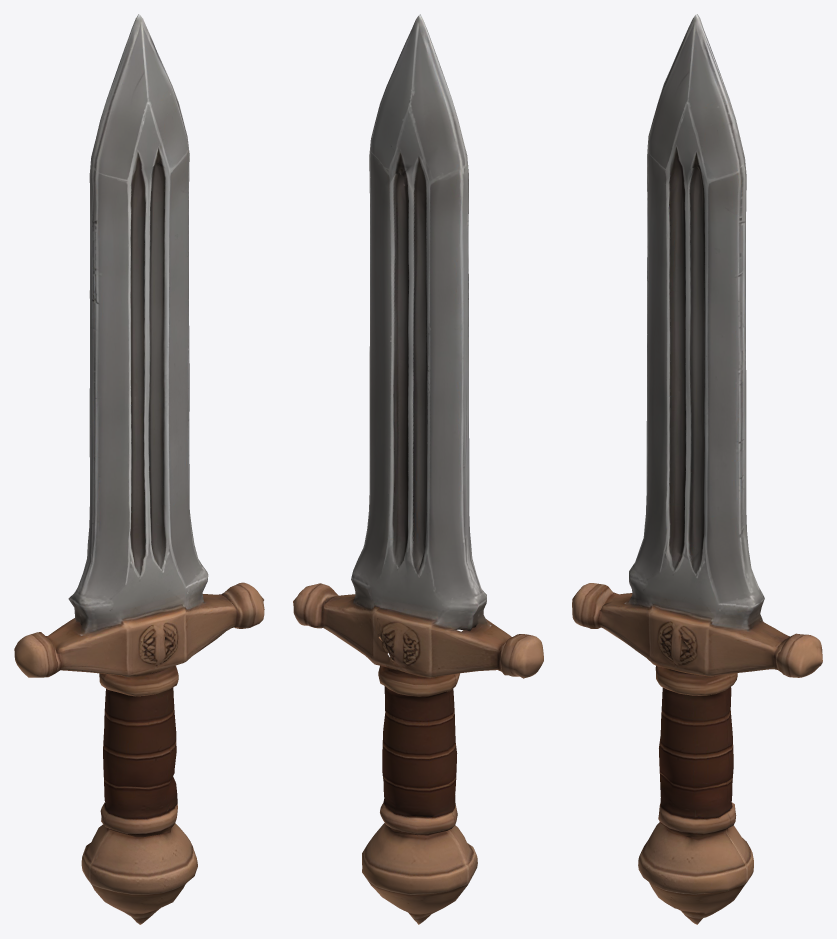
File: ancient sword 3d model.glb
3 views of the same model, side by side, from view 1: azimuth 30°, elevation 25°; view 2: azimuth 150°, elevation 25°; view 3: azimuth 330°, elevation 25° (orthographic).
Visible parts, largest first — view 1: tripo_node_dc26e2e2; view 2: tripo_node_dc26e2e2; view 3: tripo_node_dc26e2e2.
Part boxes in pixels (left/top/right/bottom): tripo_node_dc26e2e2: left=14, top=14, right=264, bottom=924; tripo_node_dc26e2e2: left=293, top=14, right=543, bottom=924; tripo_node_dc26e2e2: left=572, top=14, right=822, bottom=924.
Size of the model in its own units: 28.49 by 99.62 by 11.25.
1 material, 1 textured.
